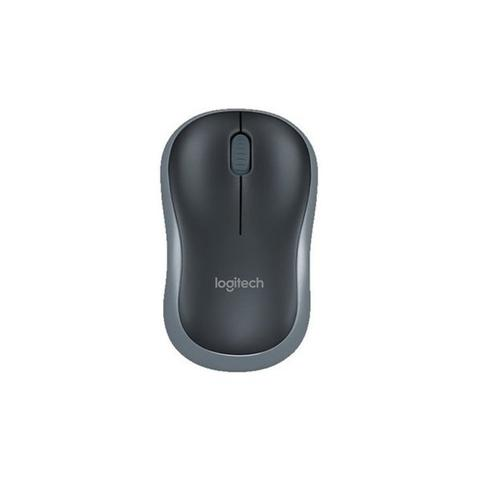logitech-mouse-m185: (145, 102, 321, 372)
